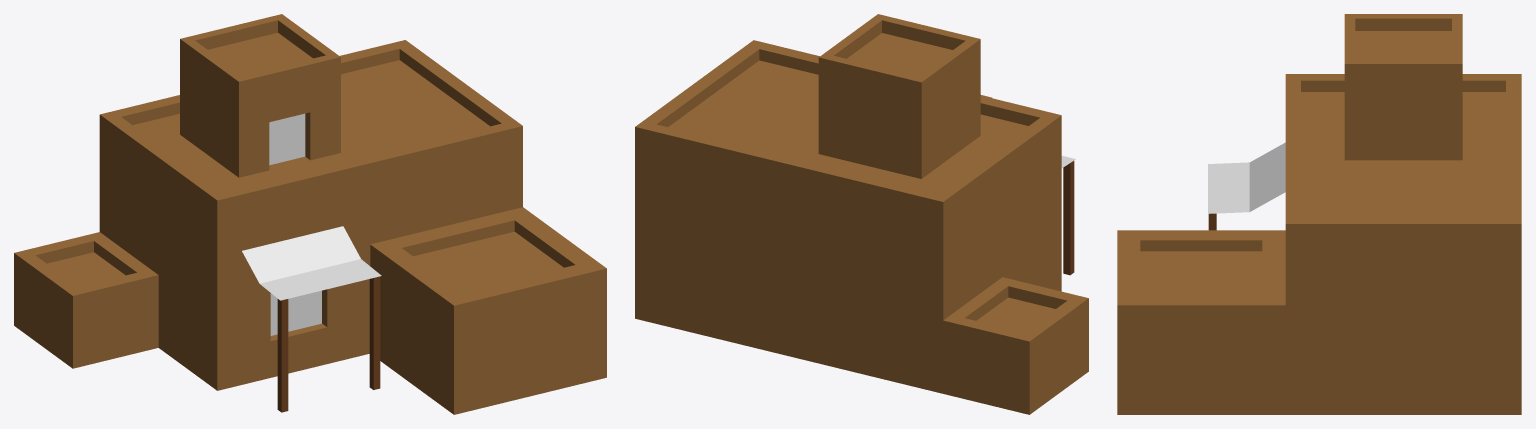
The model's file is casaTipo3.fbx.
3 renders of one model, left to right at view 1: azimuth 30°, elevation 25°; view 2: azimuth 150°, elevation 25°; view 3: azimuth 270°, elevation 25°, orthographic.
Visible parts, largest first — view 1: Cube.136; view 2: Cube.136; view 3: Cube.136.
Boxes of the visible parts, x1,y1,x2,y2 form: Cube.136: (14, 14, 606, 414); Cube.136: (635, 14, 1088, 414); Cube.136: (1117, 14, 1521, 414).
Bounding box in the file's own units: 2779 × 1866 × 2477.
